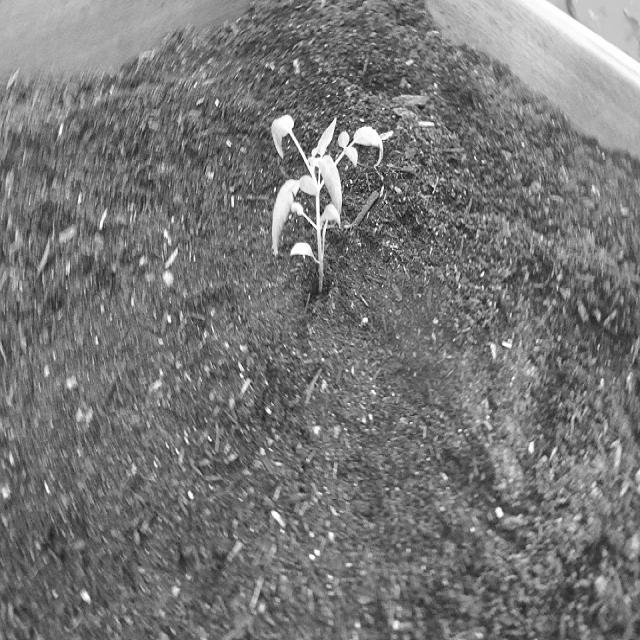Healthy: (261, 94, 390, 321)
